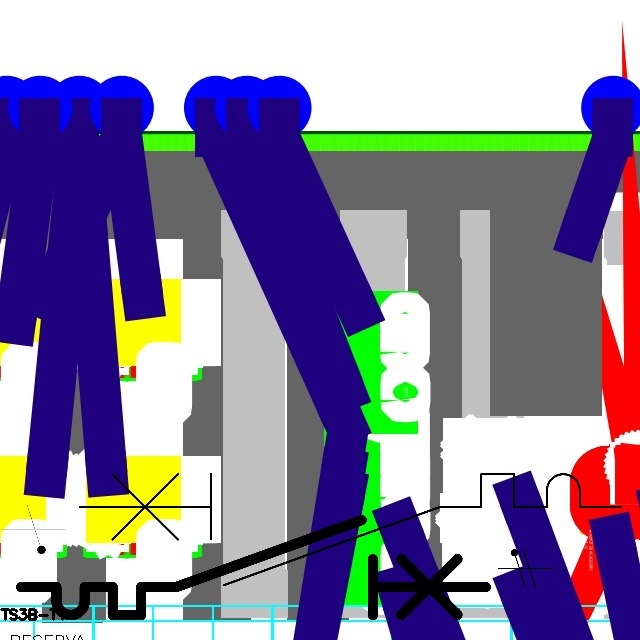interruptor_termomagnetico: (65, 460, 635, 599), (9, 508, 497, 627)
